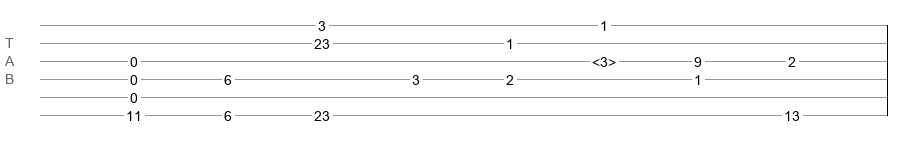0: (130, 72, 138, 82), (130, 90, 138, 100), (130, 54, 138, 64)
1: (506, 36, 514, 46), (600, 18, 608, 28), (694, 72, 702, 82)
11: (126, 108, 142, 118)
13: (784, 108, 800, 118)
2: (506, 72, 514, 82), (788, 54, 796, 64)
23: (314, 36, 330, 46), (314, 108, 330, 118)
3: (318, 18, 326, 28), (412, 72, 420, 82)
6: (224, 108, 232, 118), (224, 72, 232, 82)
9: (694, 54, 702, 64)
harmonic: (592, 54, 616, 64)
